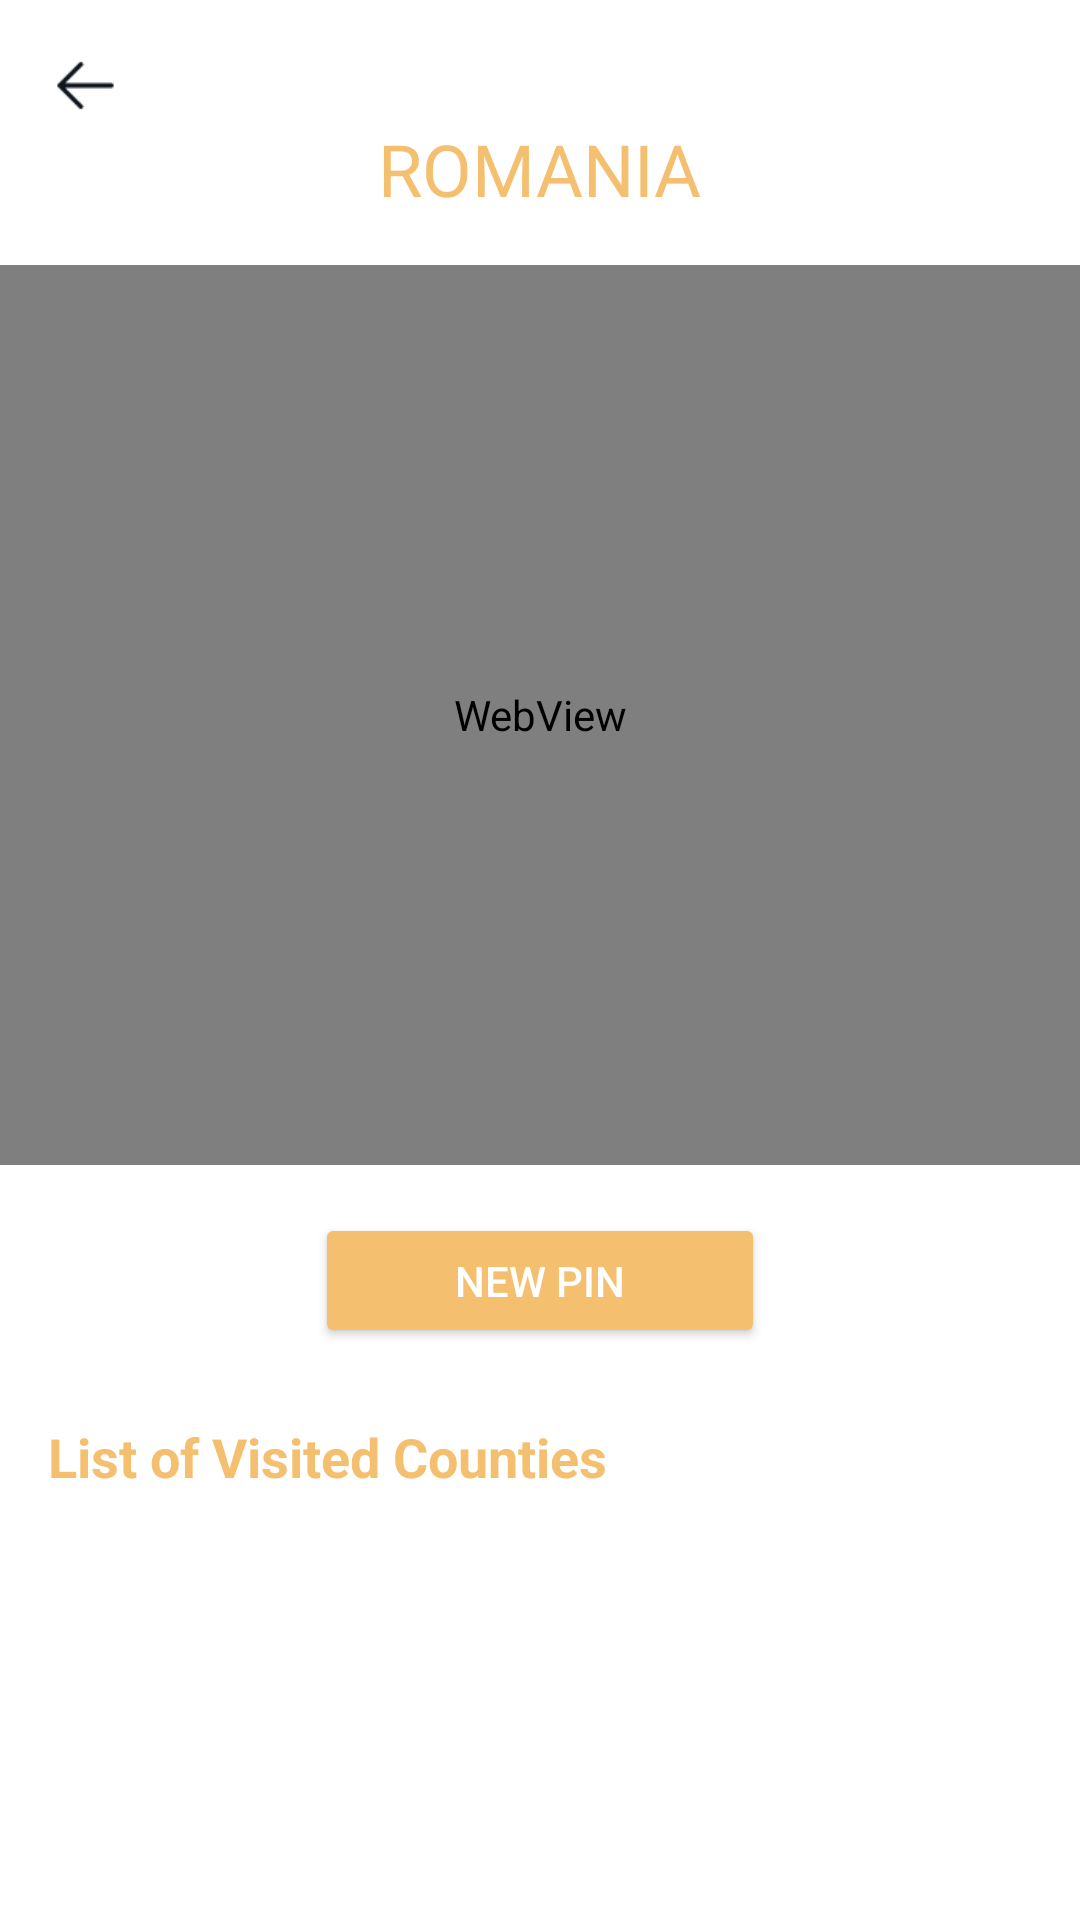

Icon click points for this 1080×1920 phone screenshot, format point (x, y):
Back: point (85, 85)
